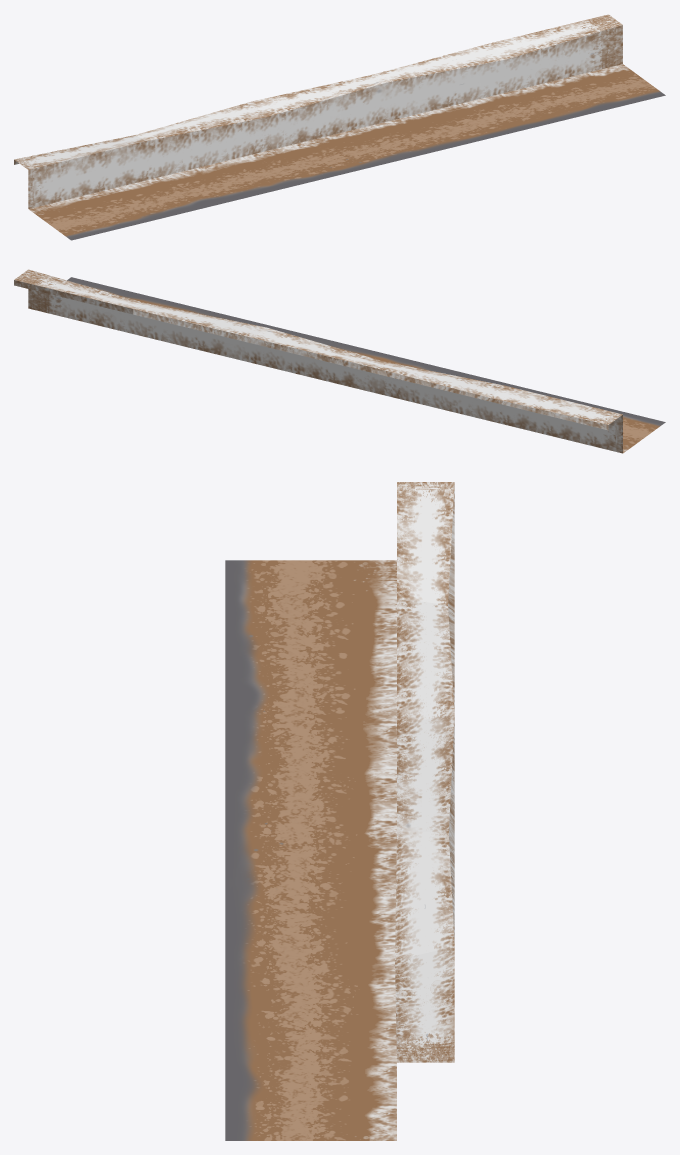
Rendered from Road_Curb_01.fbx.
3 views of the same model, one above another, from view 1: azimuth 30°, elevation 25°; view 2: azimuth 150°, elevation 25°; view 3: azimuth 270°, elevation 25° (orthographic). The views are drawn at different scales.
Visible parts, largest first — view 1: Road_Curb_01; view 2: Road_Curb_01; view 3: Road_Curb_01.
Boxes of the visible parts, <box> form: Road_Curb_01: <box>14,14,665,240</box>; Road_Curb_01: <box>14,269,665,453</box>; Road_Curb_01: <box>225,482,454,1140</box>.
Bounding box in the file's own units: 250 × 15.72 × 41.74.
